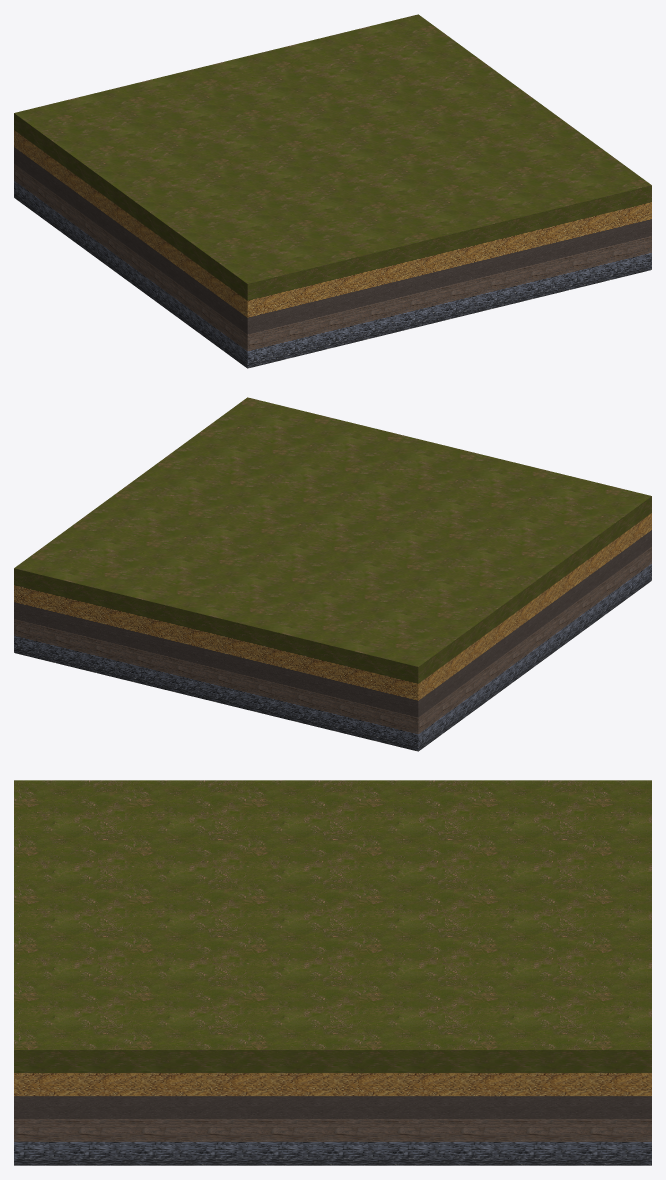
File: 土体结构100x100x45.fbx
The picture shows the model from 3 angles, top to bottom: view 1: azimuth 30°, elevation 25°; view 2: azimuth 150°, elevation 25°; view 3: azimuth 270°, elevation 25°; orthographic projection. The views are drawn at different scales.
Parts seen in each view (by area): view 1: 地面, tuti100x100; view 2: 地面, tuti100x100; view 3: 地面, tuti100x100.
Boxes of the visible parts, x1,y1,x2,y2 form: 地面: [14, 14, 651, 283]; tuti100x100: [14, 113, 651, 368]; 地面: [14, 397, 651, 666]; tuti100x100: [14, 496, 651, 751]; 地面: [14, 780, 651, 1049]; tuti100x100: [14, 1050, 651, 1165].
Size of the model in its own units: 100 by 20 by 100.
